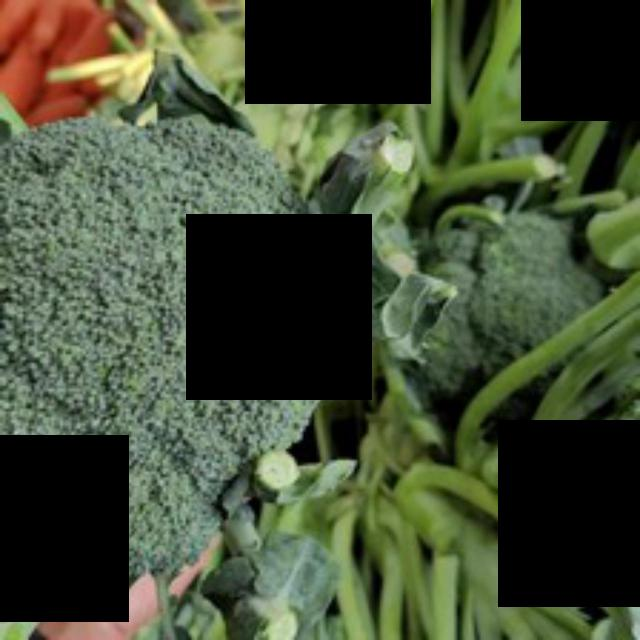broccoli: (0, 92, 356, 594)
